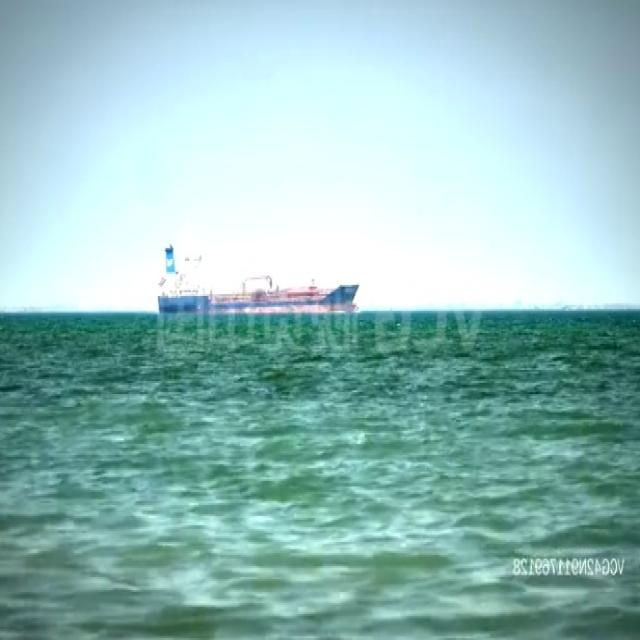cargoship: (156, 238, 358, 322)
